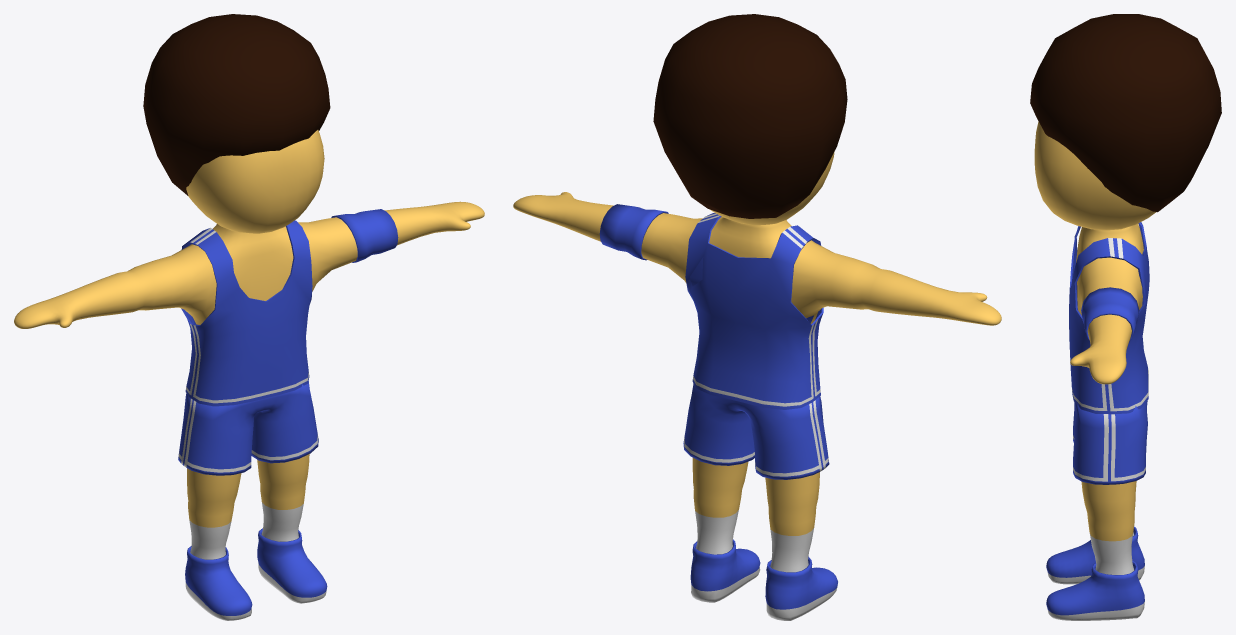
The model's file is Character-2.fbx.
3 renders of one model, left to right at view 1: azimuth 30°, elevation 25°; view 2: azimuth 150°, elevation 25°; view 3: azimuth 270°, elevation 25°, orthographic. The views are drawn at different scales.
Parts seen in each view (by area): view 1: Cube.010, basketballer1-jersey.002, Cube.011, Cube.016, Cube.017, Cube.018; view 2: Cube.010, basketballer1-jersey.002, Cube.011, Cube.017, Cube.016, Cube.018; view 3: Cube.010, basketballer1-jersey.002, Cube.011, Cube.016, Cube.017, Cube.018.
Part boxes in pixels (x1,y1,x2,y2): Cube.010: (14,14,484,559); basketballer1-jersey.002: (181,220,312,406); Cube.011: (178,381,318,475); Cube.016: (257,528,327,603); Cube.017: (185,546,252,620); Cube.018: (331,209,398,262); Cube.010: (513,14,1001,572); basketballer1-jersey.002: (685,213,823,409); Cube.011: (683,382,829,479); Cube.017: (765,556,837,620); Cube.016: (690,539,760,602); Cube.018: (599,204,668,260); Cube.010: (1030,14,1221,574); basketballer1-jersey.002: (1069,222,1149,414); Cube.011: (1073,400,1147,484); Cube.016: (1046,560,1144,620); Cube.017: (1046,526,1144,584); Cube.018: (1081,287,1139,341).
Bounding box in the file's own units: 5.98 × 6.82 × 2.09.
